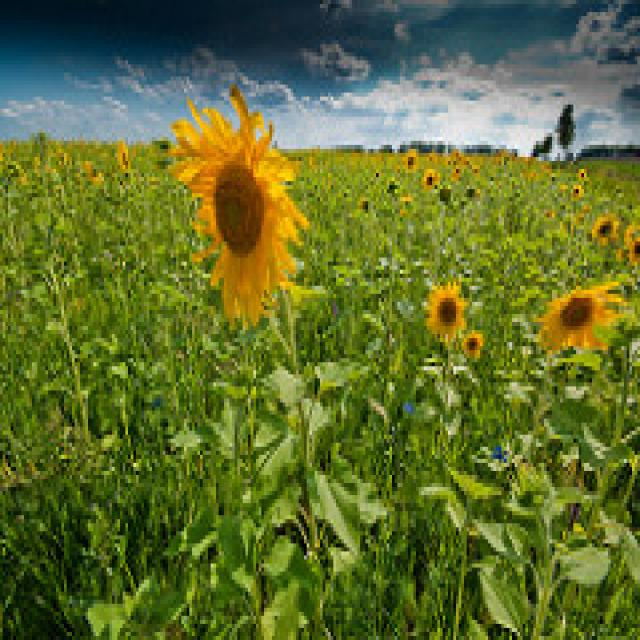sunflower: (172, 99, 304, 310), (540, 276, 612, 366), (430, 276, 464, 348), (461, 326, 487, 362)
